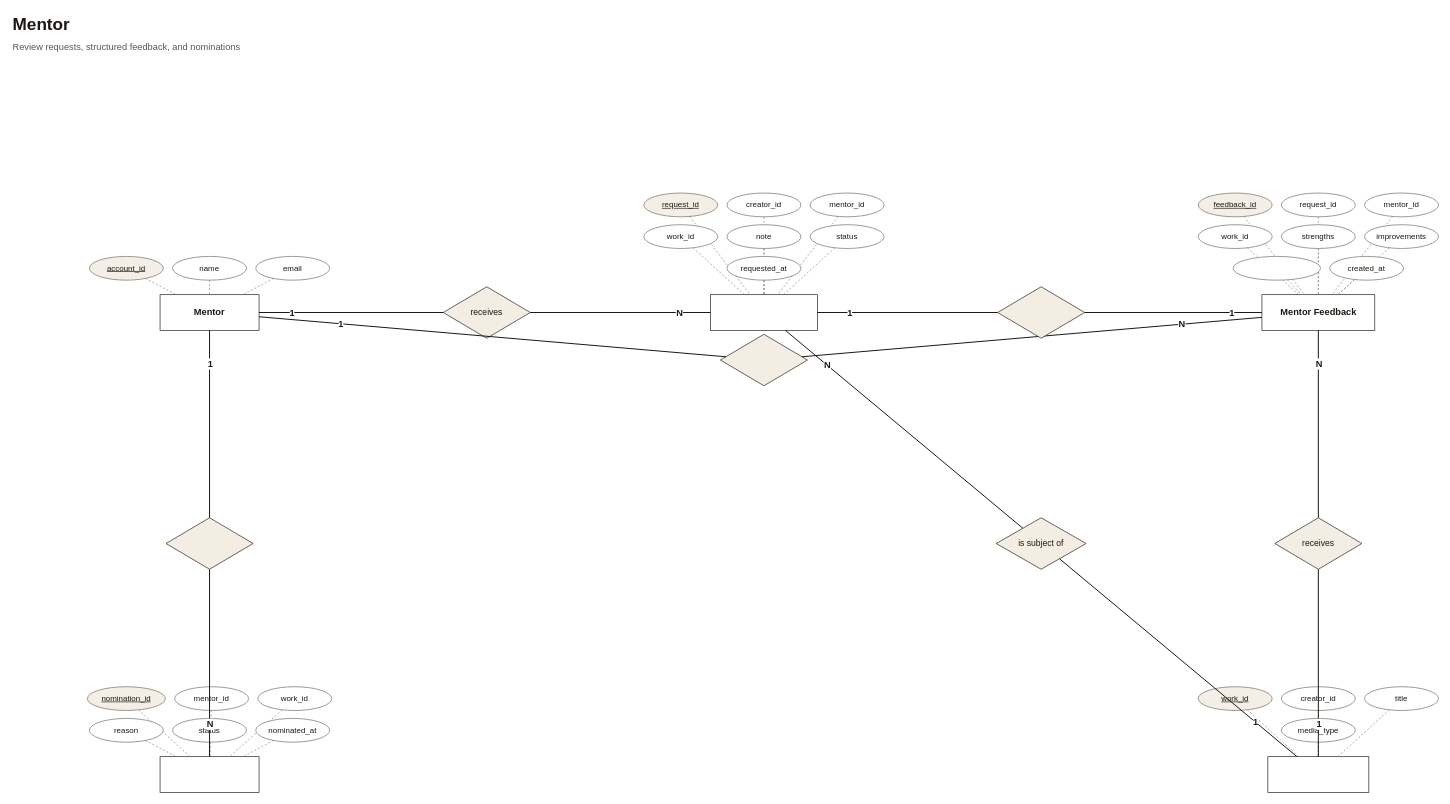
Image size: 1450x804. Some labels were removed from this diagram. The shapes that lost their labels are listed below. From the top down, each one's centre as x and y in pixels, then its label:
point (1276, 268): recommendations
point (763, 312): Review Request
point (1041, 312): leads to
point (764, 360): writes
point (209, 543): nominates
point (209, 774): Nomination
point (1318, 774): Creative Work
